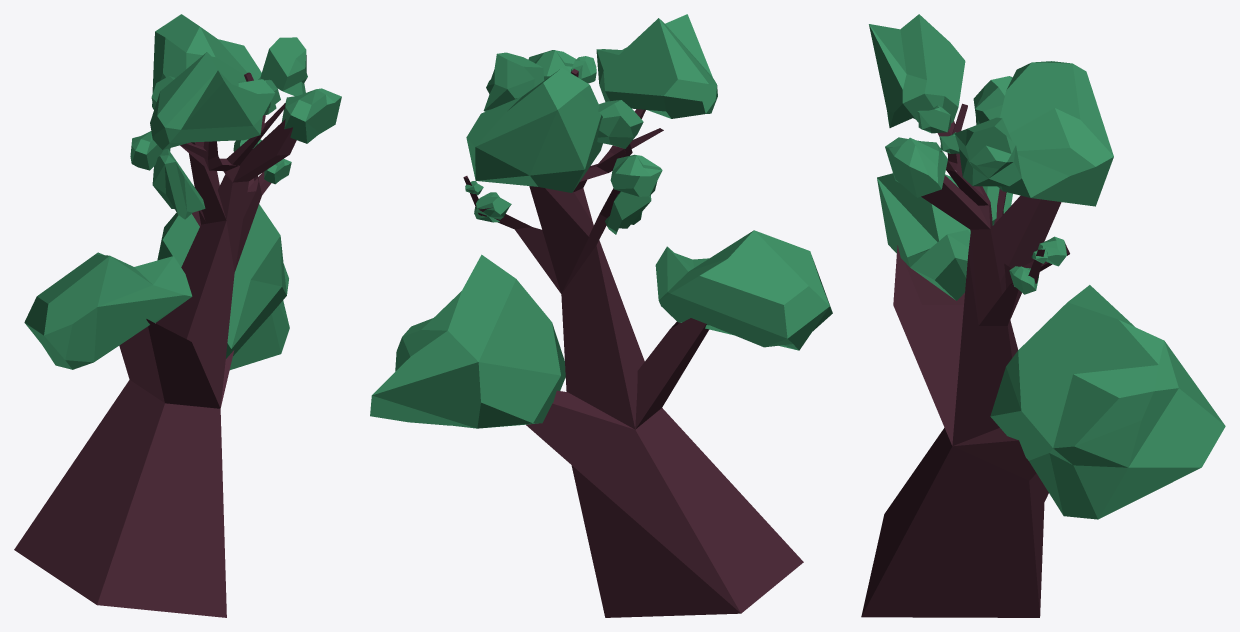
File: treedecor3.fbx
3 renders of one model, left to right at view 1: azimuth 30°, elevation 25°; view 2: azimuth 150°, elevation 25°; view 3: azimuth 270°, elevation 25°, orthographic. The views are drawn at different scales.
Visible parts, largest first — view 1: Icosphere.008, Icosphere.007; view 2: Icosphere.008, Icosphere.007; view 3: Icosphere.008.
Boxes of the visible parts, bbox=[...] form: Icosphere.008: bbox=[14, 14, 341, 617]; Icosphere.007: bbox=[152, 148, 205, 219]; Icosphere.008: bbox=[370, 14, 832, 617]; Icosphere.007: bbox=[605, 191, 651, 234]; Icosphere.008: bbox=[861, 14, 1225, 617].
Size of the model in its own units: 8227 by 13065 by 7115.
